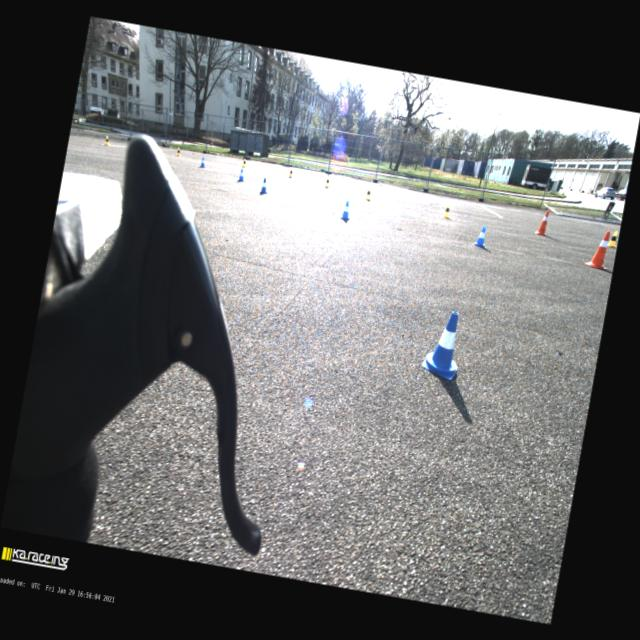blue_cone: (419, 306, 466, 381), (472, 225, 490, 248), (340, 199, 352, 220), (258, 176, 270, 194), (237, 167, 246, 182), (198, 156, 206, 168)
large_orange_cone: (584, 228, 613, 270), (534, 208, 550, 236)
yellow_cone: (607, 229, 618, 247), (443, 204, 451, 218), (364, 188, 372, 200), (103, 135, 111, 146), (175, 146, 182, 158), (240, 158, 247, 168), (288, 168, 294, 178), (324, 178, 330, 188)
